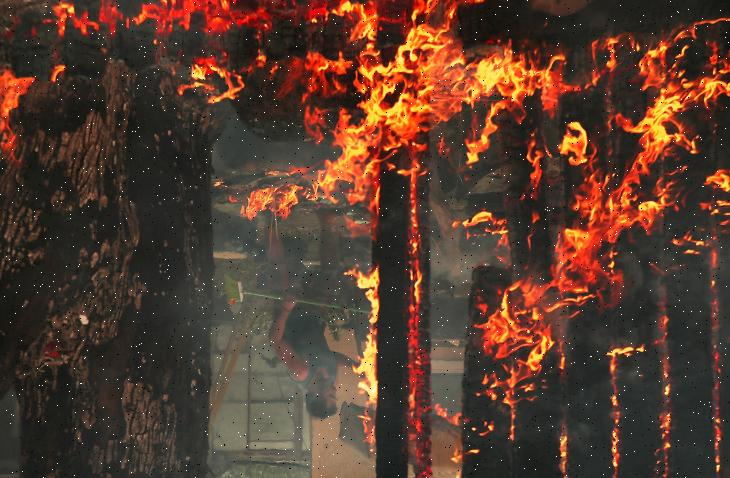fire: (369, 0, 730, 449), (0, 0, 363, 223)
